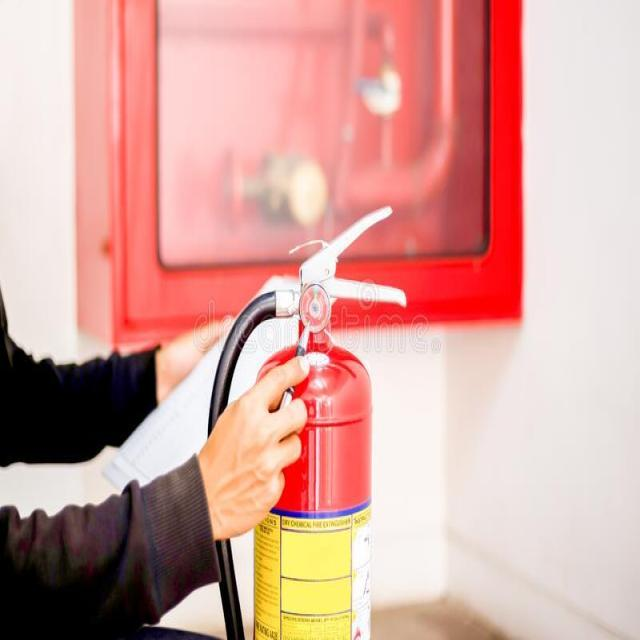fire_extinguisher: (200, 200, 412, 639)
